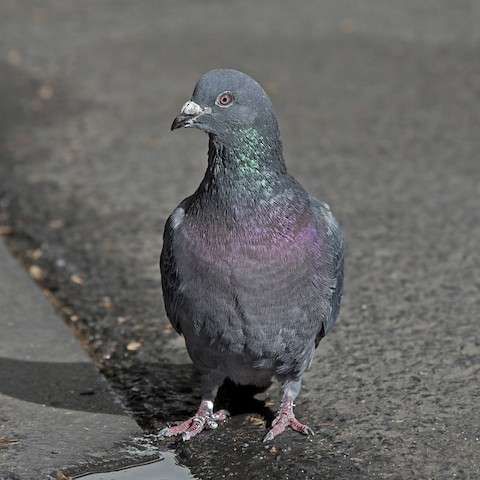pigeon: (141, 62, 354, 447)
